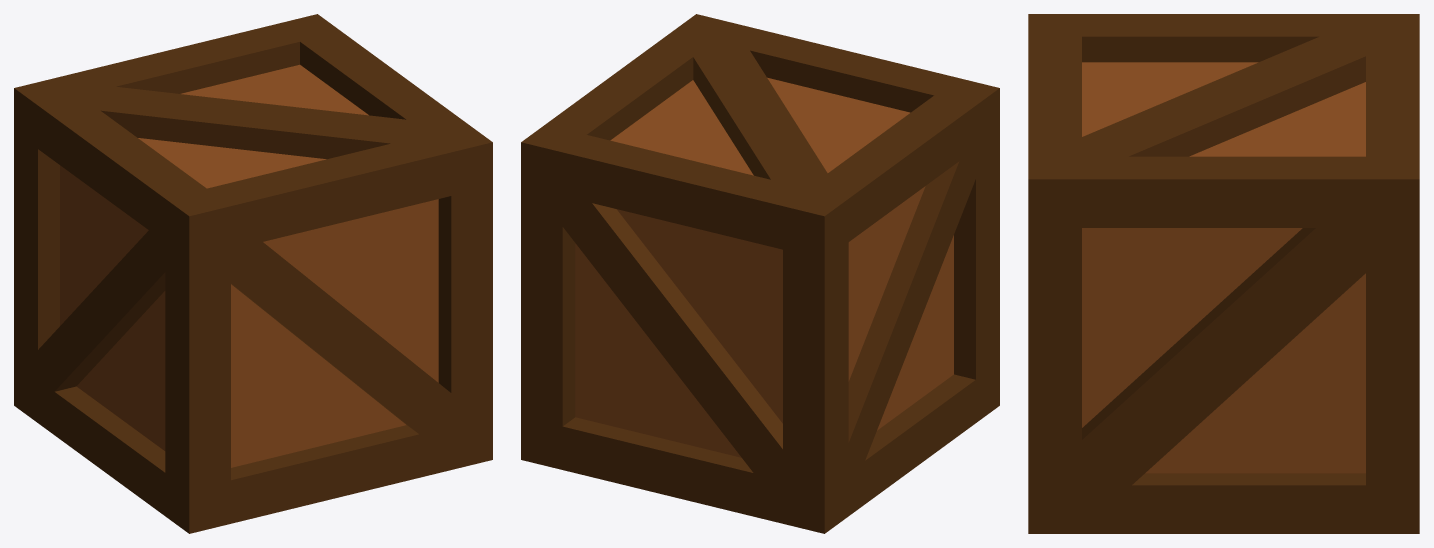
3 renders of one model, left to right at view 1: azimuth 30°, elevation 25°; view 2: azimuth 150°, elevation 25°; view 3: azimuth 270°, elevation 25°, orthographic. The views are drawn at different scales.
Visible parts, largest first — view 1: Krabice; view 2: Krabice; view 3: Krabice.
Part boxes in pixels (x1,y1,x2,y2): Krabice: (14, 14, 492, 533); Krabice: (521, 14, 999, 533); Krabice: (1028, 14, 1419, 533).
Size of the model in its own units: 100 by 100 by 100.
